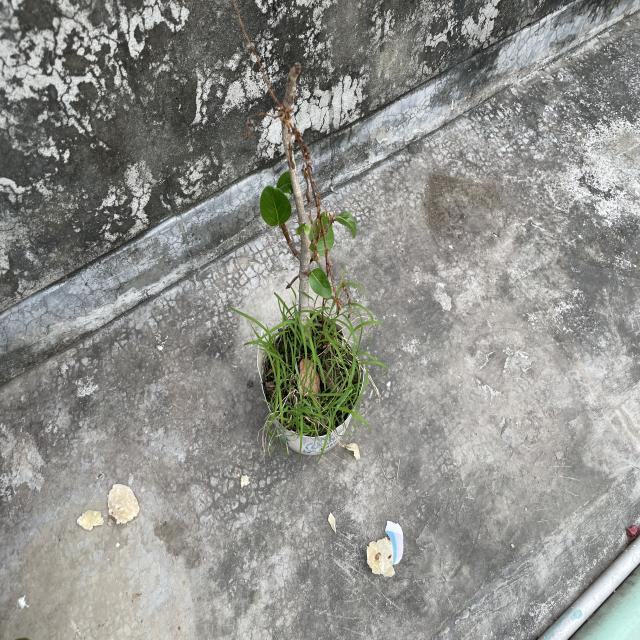Breeding Place: (259, 311, 362, 458)
